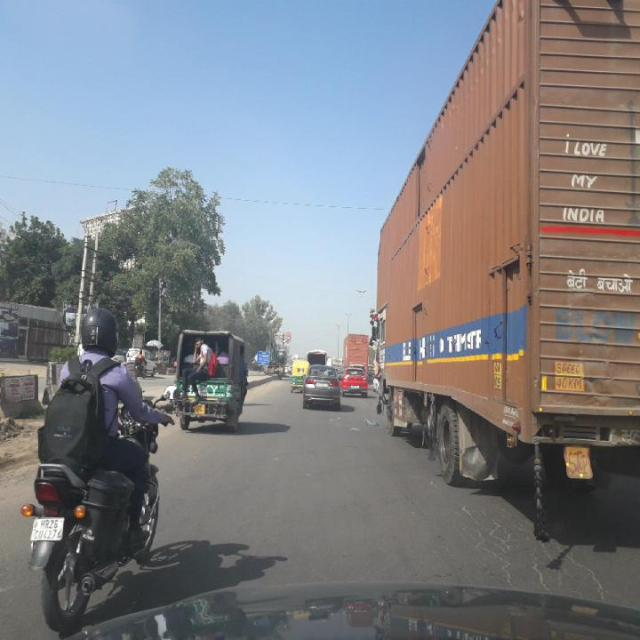D20: (458, 496, 613, 596)
